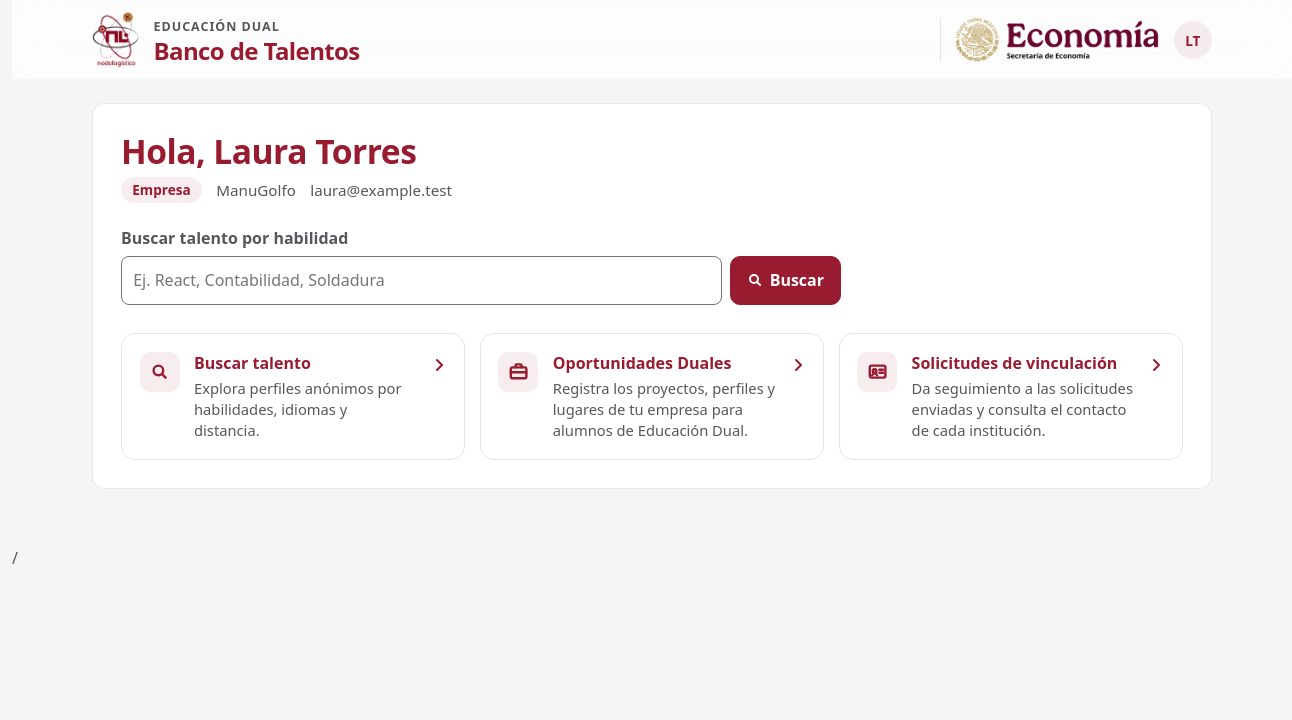
Test case: inicio por rol (tarea transversal del Sprint 4) › el atajo de la empresa abre el buscador con la habilidad ya filtrada
Step 1. Type "  Power   BI " into the field labelled "Buscar talento por habilidad" → (422, 280), box x1=121 y1=256 x2=722 y2=305
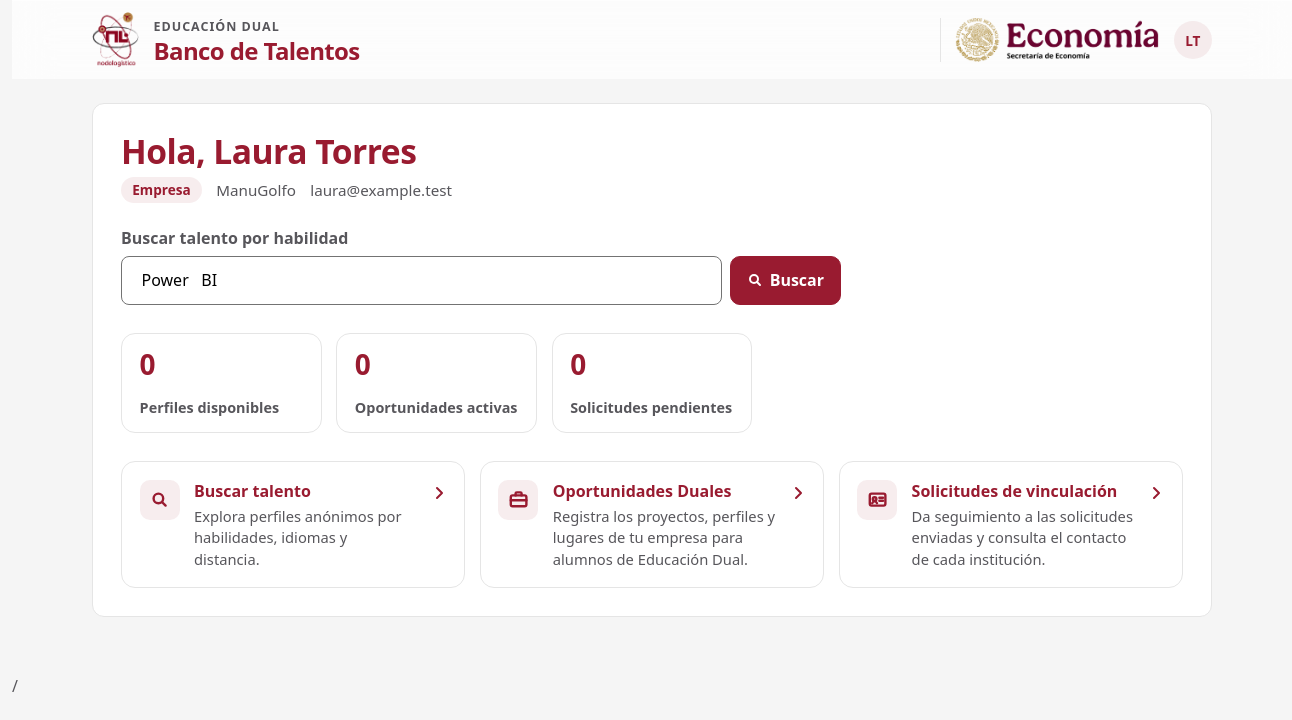
Step 2. Click the button "Buscar" → (786, 280), box x1=730 y1=256 x2=841 y2=305
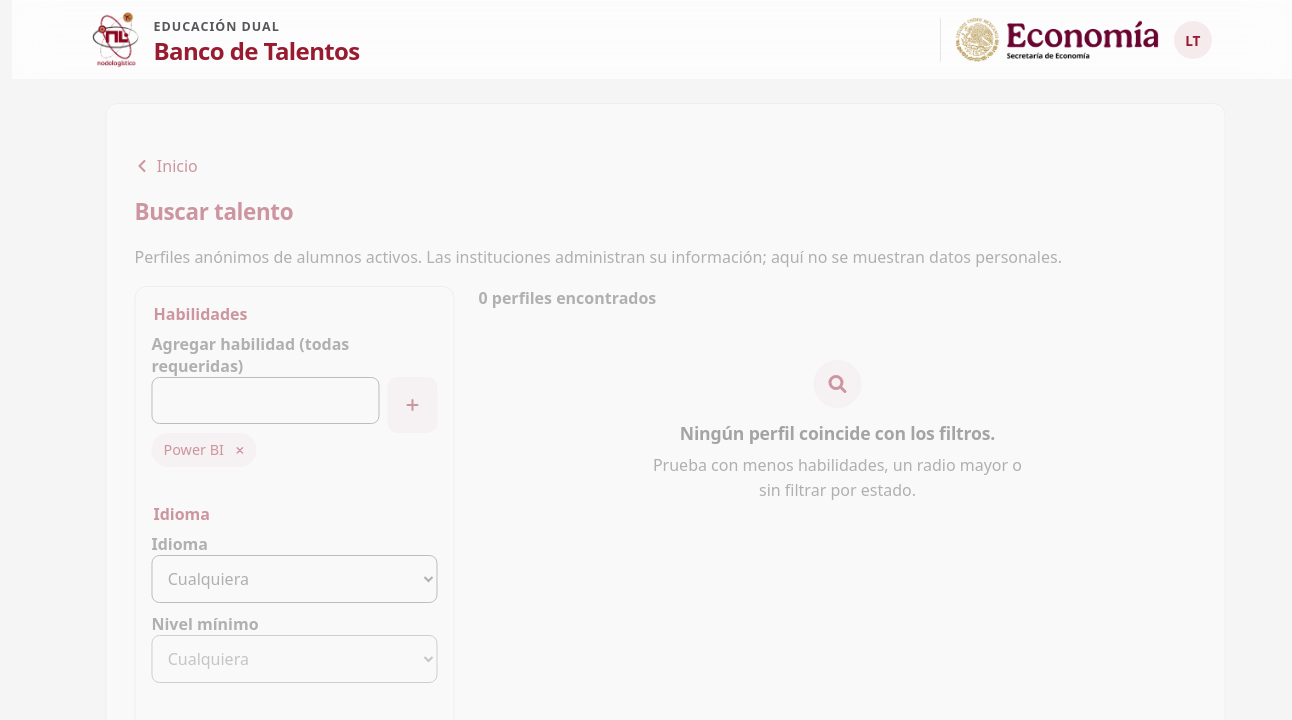
Expected: the heading "Buscar talento" is shown, x1=128 y1=196 x2=287 y2=227
Now the text "Power BI" is shown, box x1=158 y1=440 x2=218 y2=460
